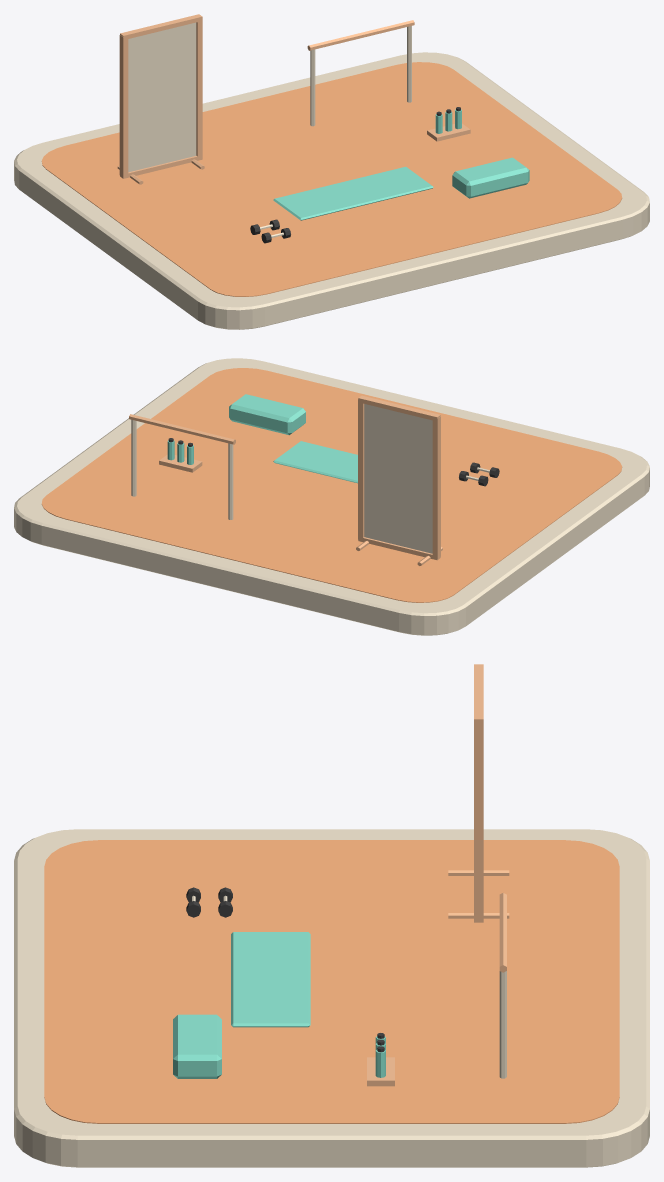
3 views of the same model, one above another, from view 1: azimuth 30°, elevation 25°; view 2: azimuth 150°, elevation 25°; view 3: azimuth 270°, elevation 25° (orthographic). The views are drawn at different scales.
Visible parts, largest first — view 1: COM-02 Floor Surface, COM-01 Rounded Base Direct, Mirror face, Exercise mat, Step, Frame, Frame.001, Bar, Frame.003, Post; view 2: COM-02 Floor Surface, COM-01 Rounded Base Direct, Mirror face, Step, Exercise mat, Frame, Frame.001, Bar, Frame.003, Post.001, Post, Frame.002 (+1 smaller); view 3: COM-02 Floor Surface, COM-01 Rounded Base Direct, Exercise mat, Step, Frame.001, Post.001.
Boxes of the visible parts, <box> form: COM-02 Floor Surface: <box>41,62,622,296</box>; COM-01 Rounded Base Direct: <box>14,52,649,329</box>; Mirror face: <box>128,22,196,172</box>; Exercise mat: <box>273,166,433,220</box>; Step: <box>452,157,529,198</box>; Frame: <box>119,35,128,177</box>; Frame.001: <box>196,18,202,159</box>; Bar: <box>307,20,414,50</box>; Frame.003: <box>120,14,202,38</box>; Post: <box>310,49,315,126</box>; COM-02 Floor Surface: <box>41,368,622,602</box>; COM-01 Rounded Base Direct: <box>14,358,649,635</box>; Mirror face: <box>364,404,432,553</box>; Step: <box>229,394,305,435</box>; Exercise mat: <box>273,441,357,483</box>; Frame: <box>432,416,440,558</box>; Frame.001: <box>358,399,364,540</box>; Bar: <box>129,414,235,444</box>; Frame.003: <box>358,395,440,420</box>; Post.001: <box>131,419,136,496</box>; Post: <box>228,443,233,519</box>; Frame.002: <box>358,537,440,560</box>; COM-02 Floor Surface: <box>44,840,619,1123</box>; COM-01 Rounded Base Direct: <box>14,829,649,1167</box>; Exercise mat: <box>231,932,310,1027</box>; Step: <box>173,1014,221,1078</box>; Frame.001: <box>474,721,483,920</box>; Post.001: <box>499,971,506,1078</box>.
Bounding box in the file's own units: 6 × 2.16 × 5.2.
1 material, 1 textured.
